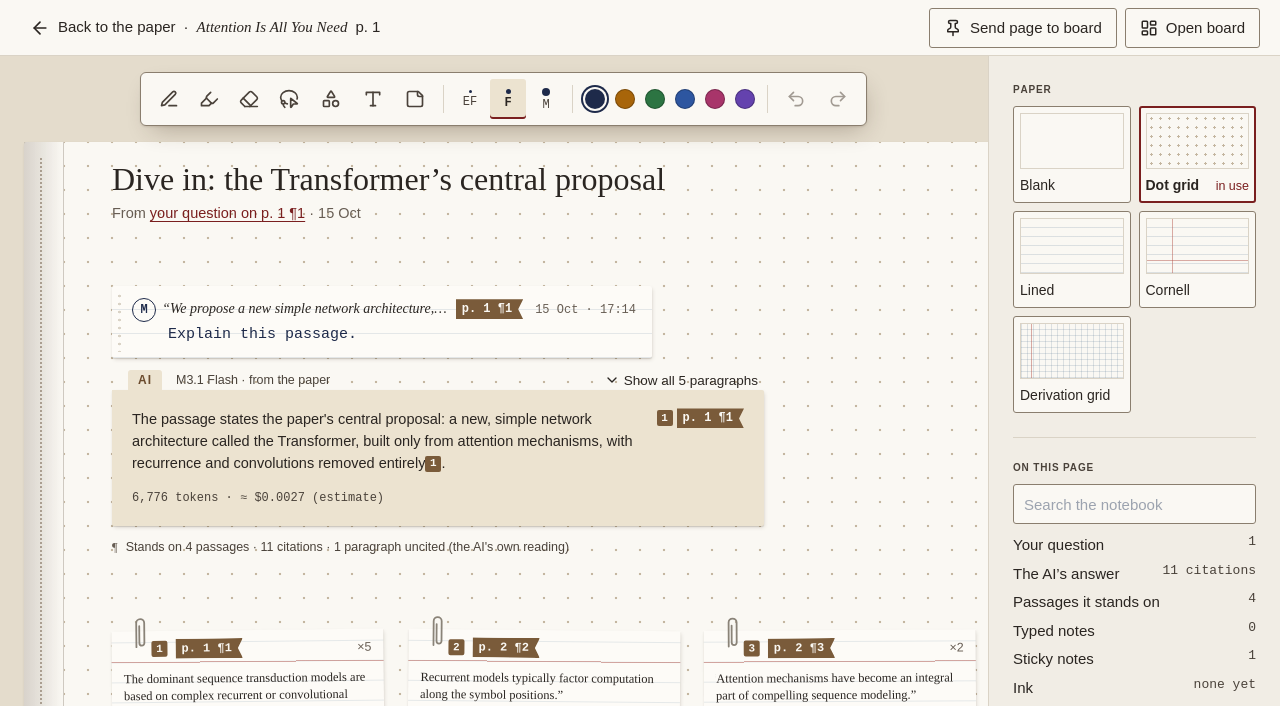
Send page to board, once › keeps the card’s counts current as the page changes
The width and height of the screenshot is (1280, 706).
Click the button "Send page to board" at (1023, 28), box left=929, top=8, right=1117, bottom=48
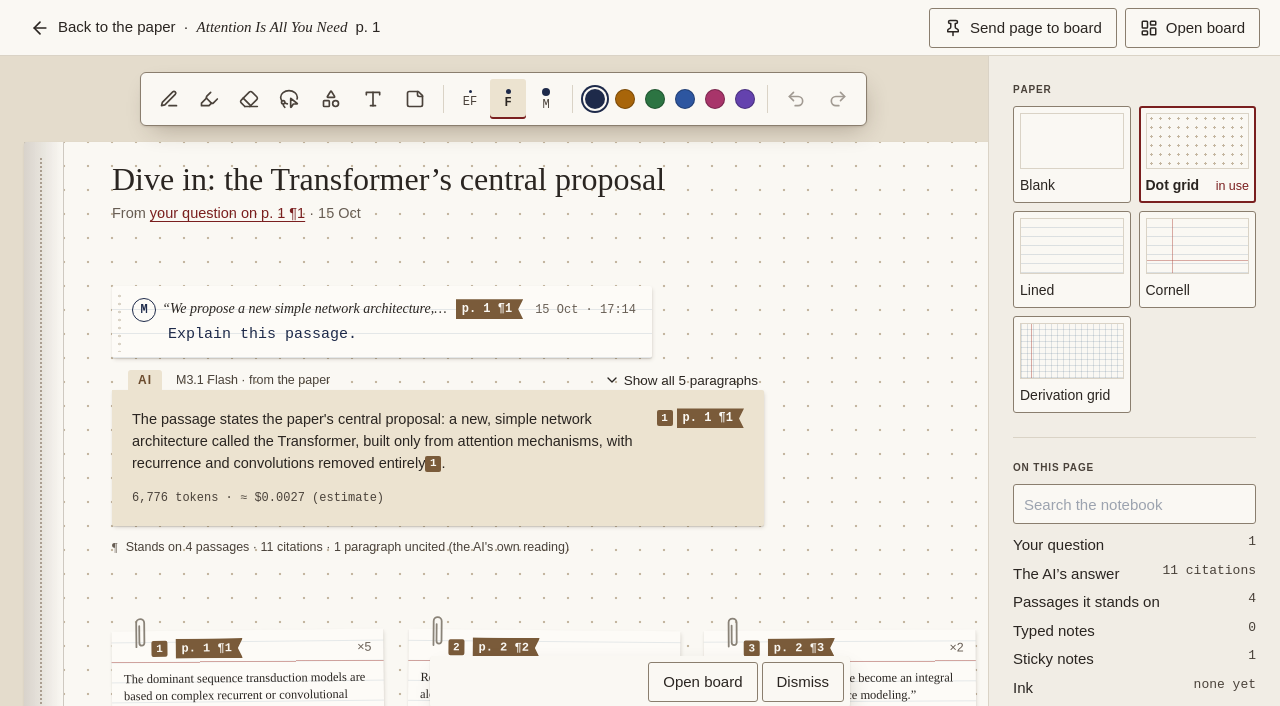
Click the button named "Sticky note" at (415, 99), box left=395, top=79, right=435, bottom=119
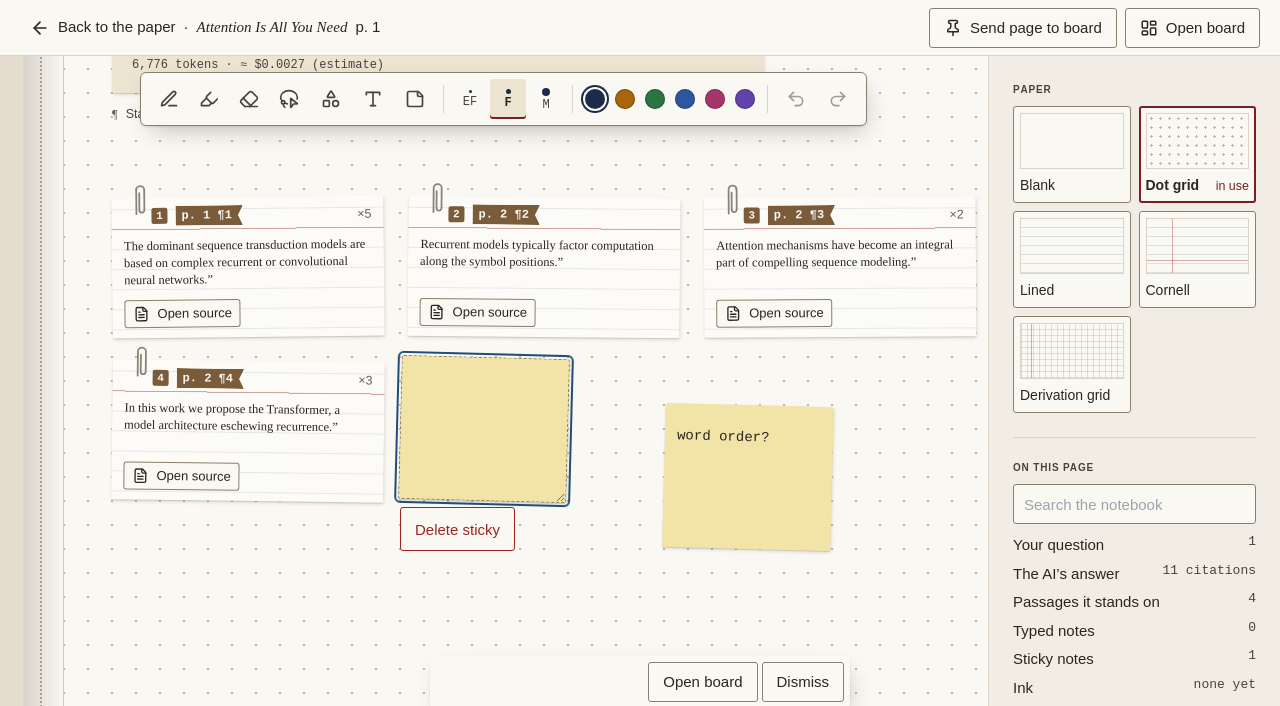
Type "one more" into the text box named "Sticky note" at (484, 429), box left=398, top=355, right=570, bottom=503
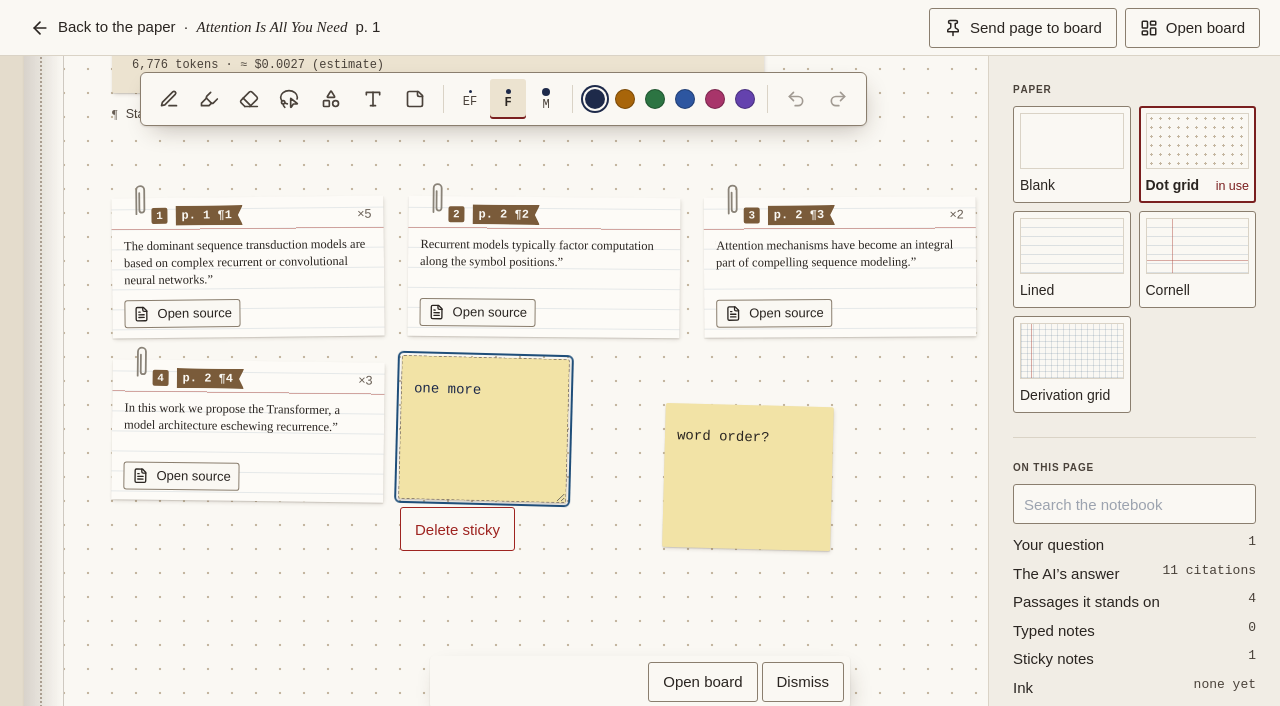
Leave the text box named "Sticky note", box left=398, top=355, right=570, bottom=503
(page scrolled)
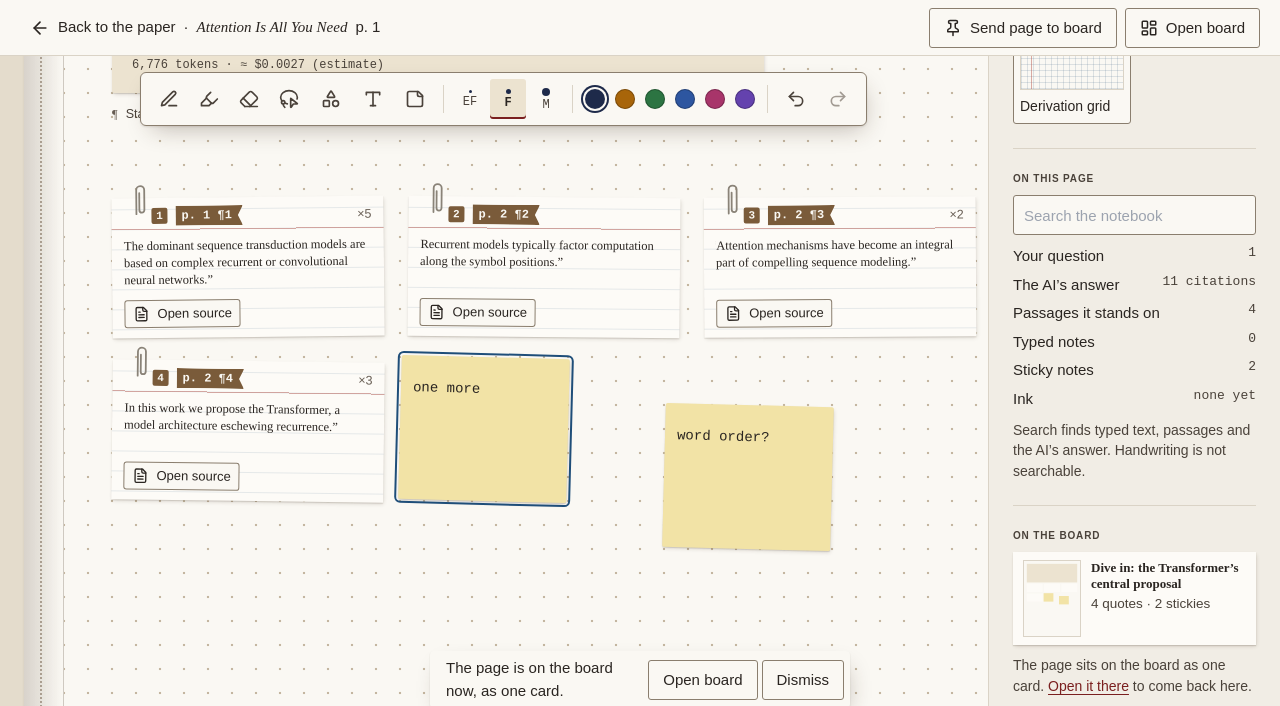
Expected: the text "4 quotes · 2 stickies" is shown, left=1091, top=596, right=1210, bottom=611
